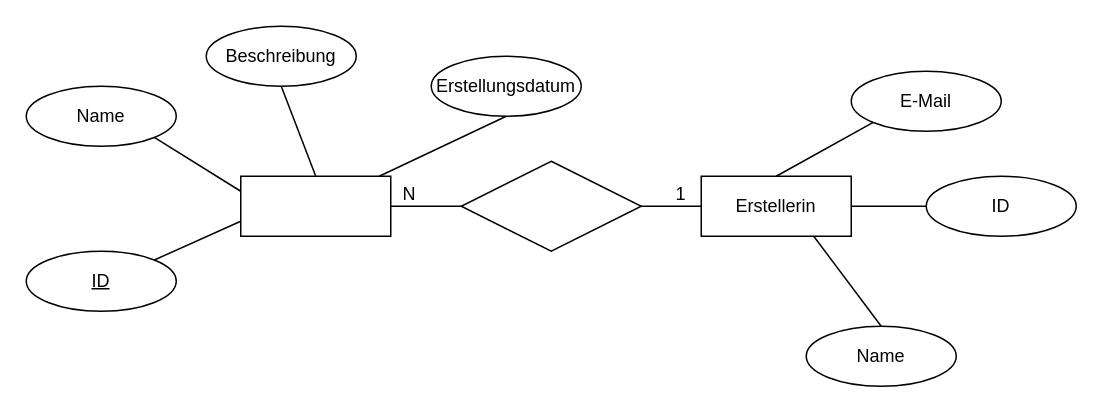
The diagram is 1103 pixels wide and 413 high, and some of its shapes have lost their labels. Each missing label, with the box of its shape:
besitzt: (460, 160, 641, 251)
Wunschgericht: (239, 175, 391, 236)
